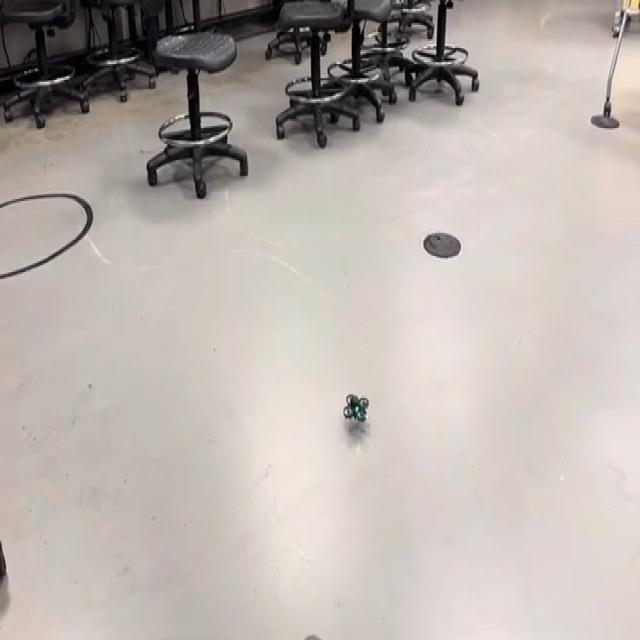drone: (336, 384, 379, 437)
